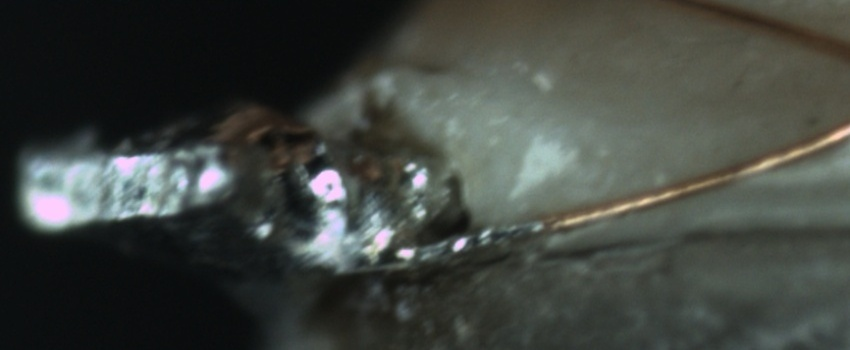TS: (393, 215, 552, 265)
TTCW: (394, 196, 611, 264)
